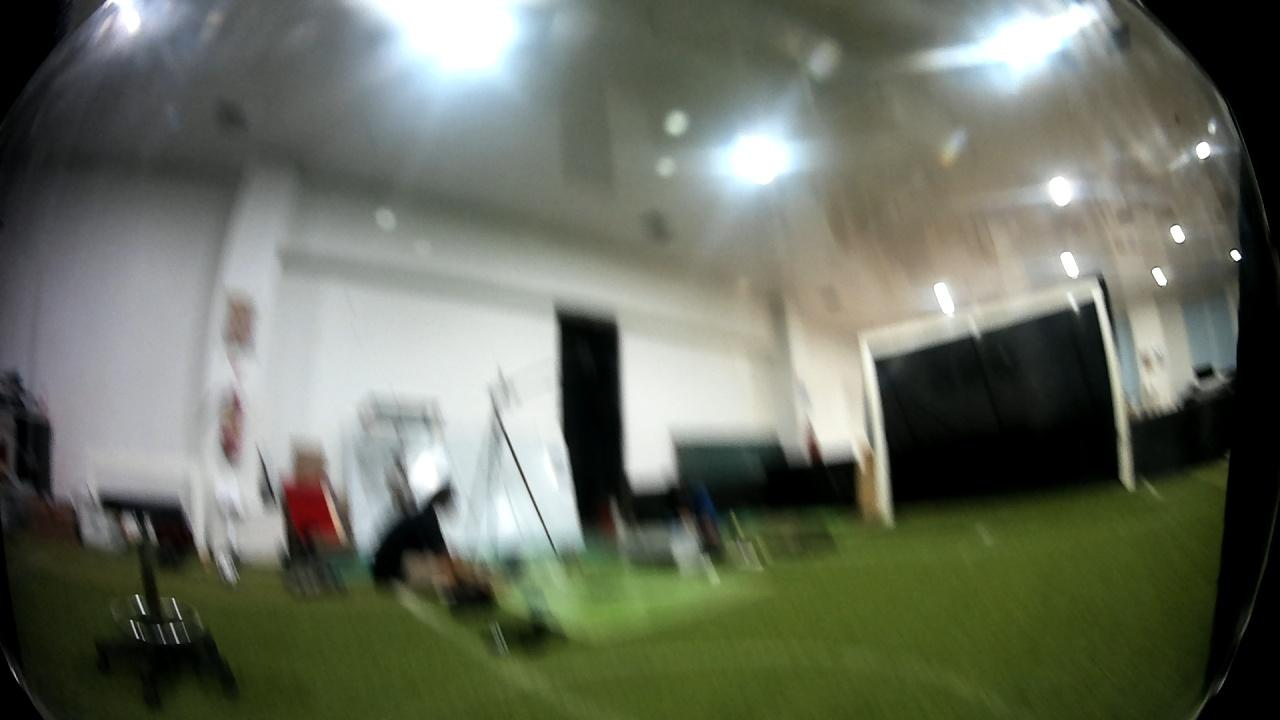ball: (216, 552, 239, 593)
